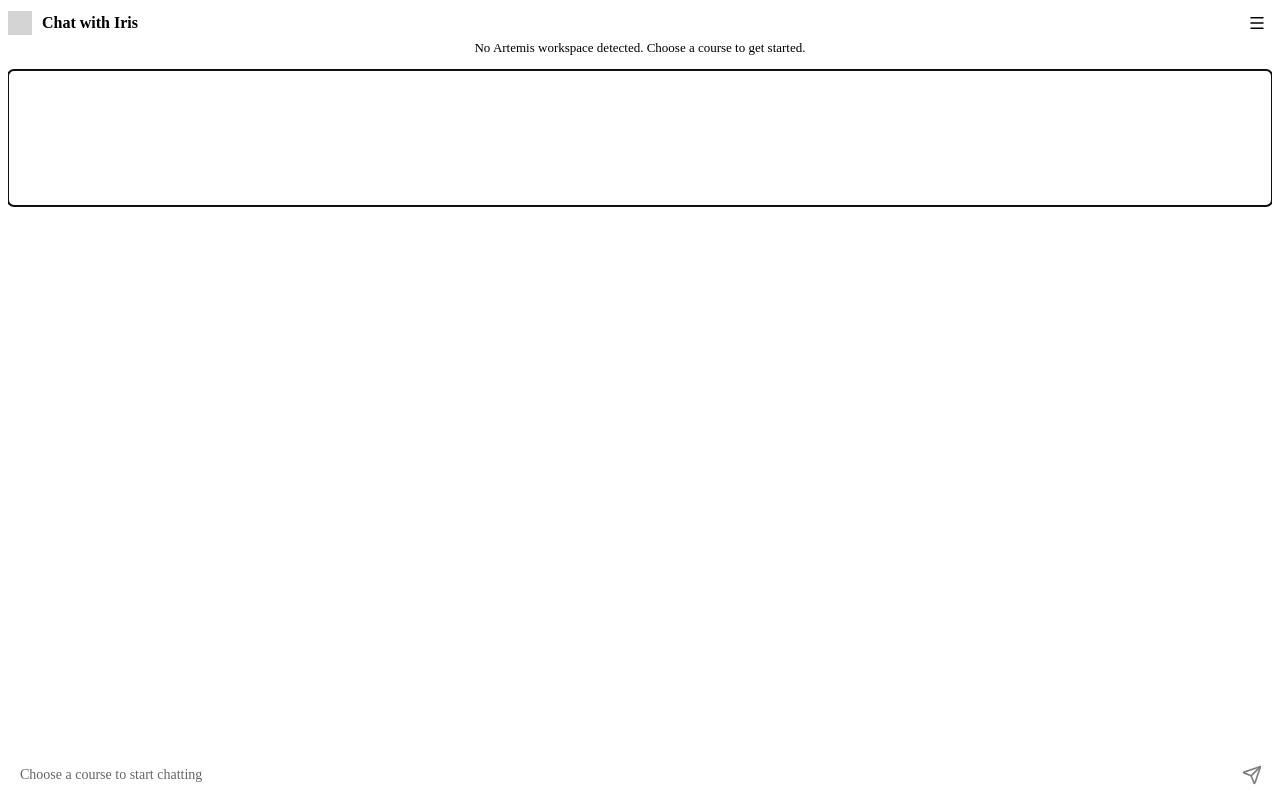
Test: IrisChatView › menu opens when menu button clicked
Step 1. Click the button named "Menu" → point(1257, 23), box [1242,8,1272,38]
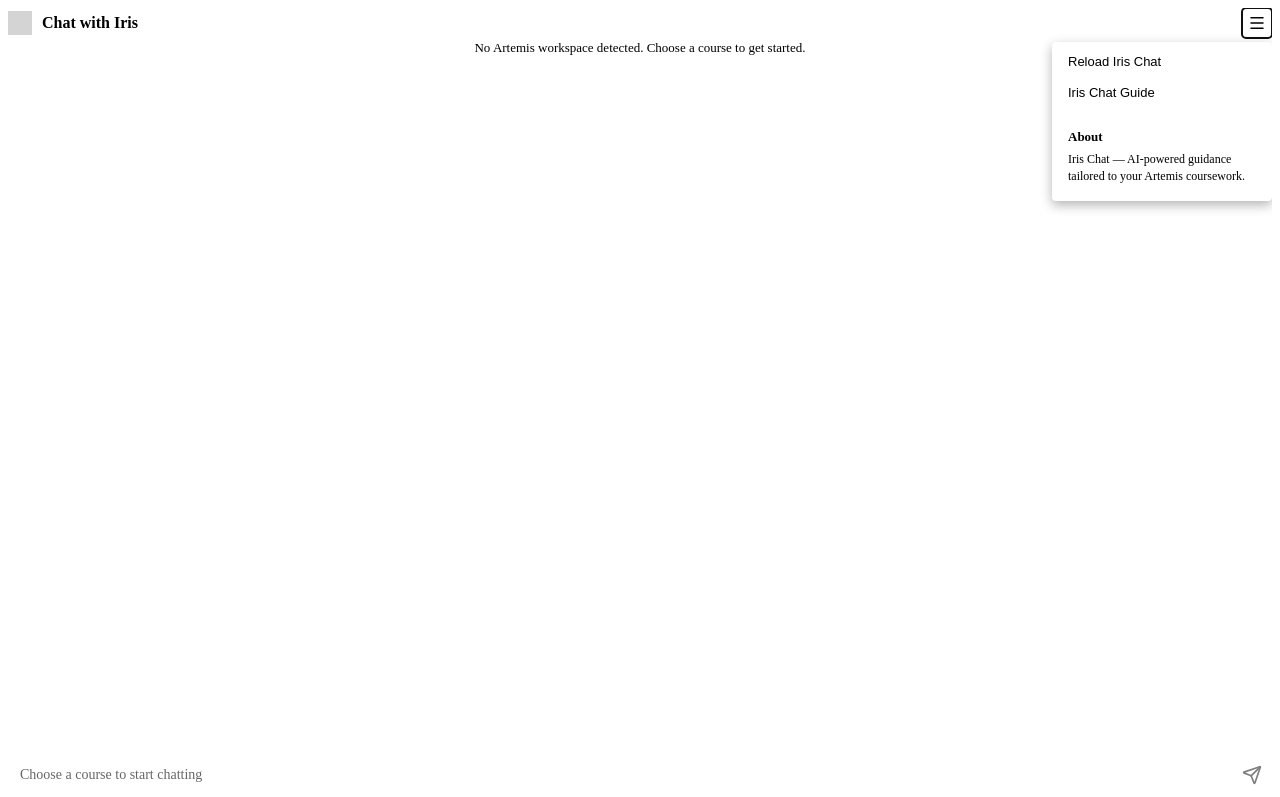
Expected: the button "Reload Iris Chat" is shown, [1052,46,1272,77]
